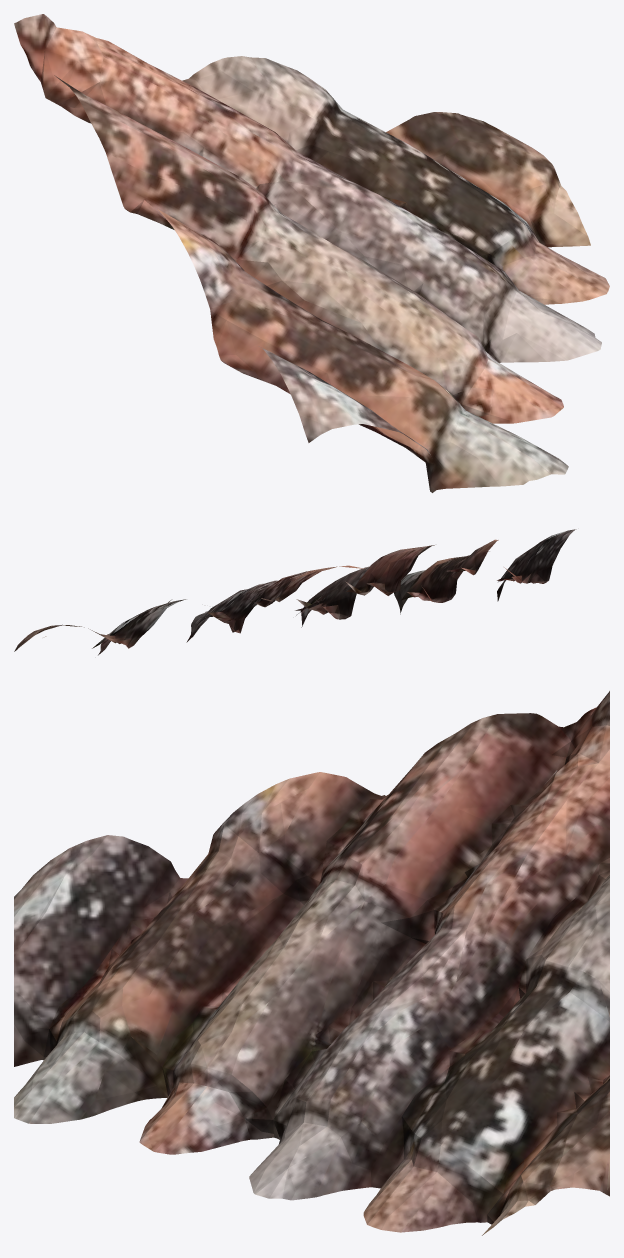
The picture shows the model from 3 angles, top to bottom: view 1: azimuth 30°, elevation 25°; view 2: azimuth 150°, elevation 25°; view 3: azimuth 270°, elevation 25°; orthographic projection. The views are drawn at different scales.
Bounding box in the file's own units: 0.8374 × 0.4713 × 0.8373.
Materials: 3 (3 with a texture image).
